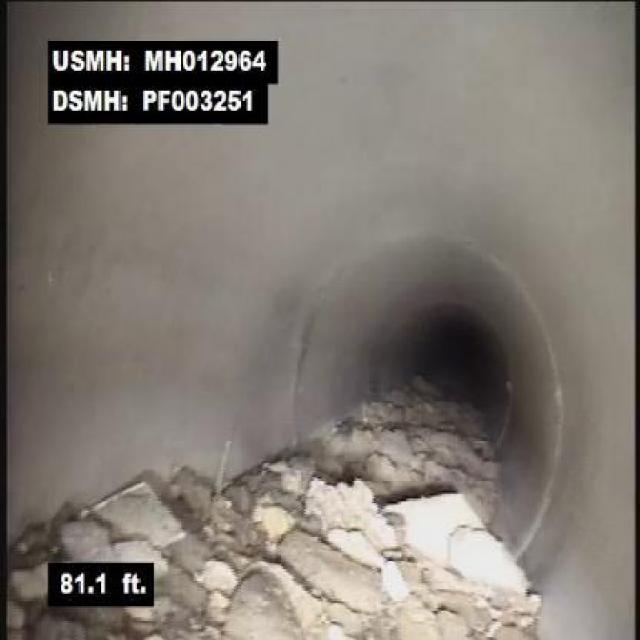Obstacle: (337, 402, 537, 638), (152, 432, 334, 638)
